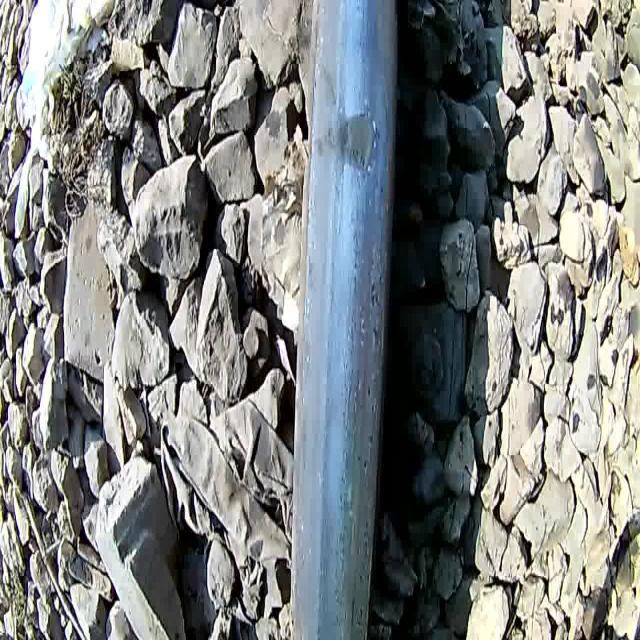Squats: (310, 98, 386, 190)
